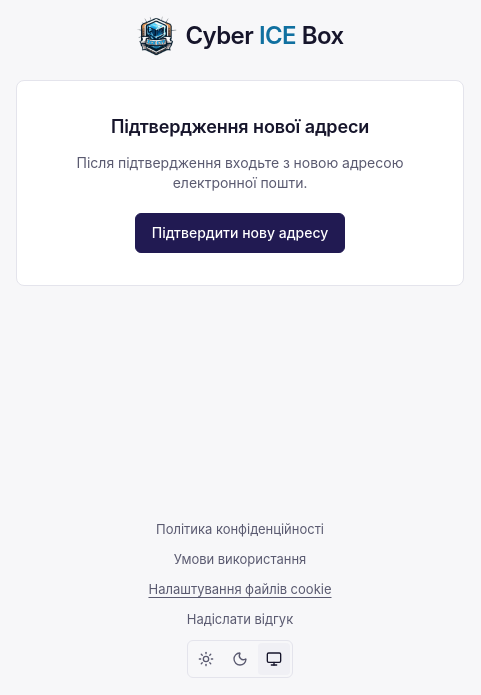
/confirm-email › sends nothing on load and confirms on the button
Expected: the text with class "ib-btn__face" reads "Підтвердити нову адресу", [152,224,328,241]
What coordinates should you click on to do the following:
click the button "Підтвердити нову адресу"
I would click on:
 (240, 233)
Its box is [135,213,345,253].
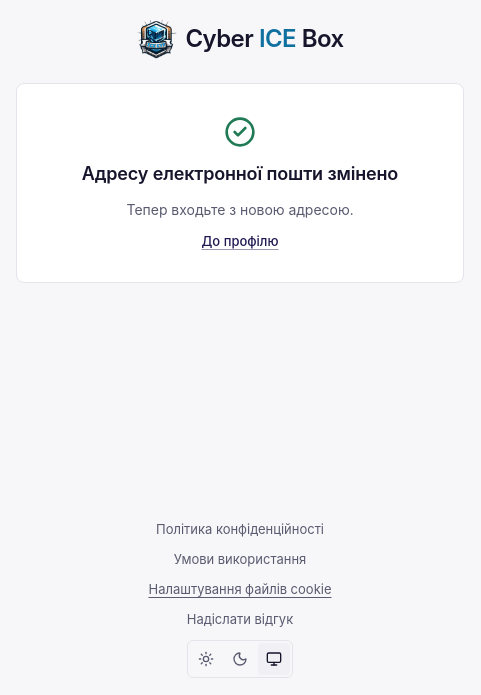
Result: the text "Адресу електронної пошти змінено" is shown at [82,160,398,188]
